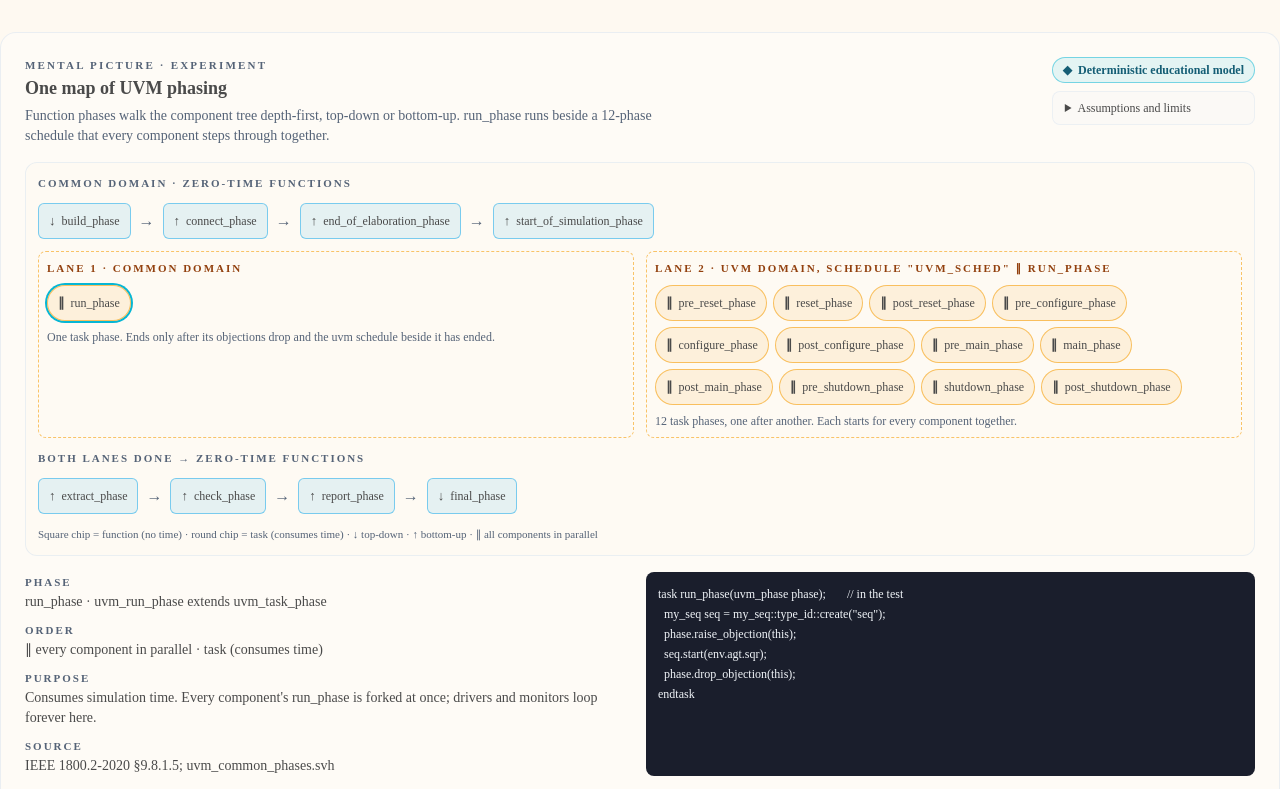
Scenario: UvmPhaseTimelineVisualizer › labels each common phase with its traversal direction (final is top-down, report bottom-up)
Expected: the button with aria-label "build_phase: function, top-down" is shown, 38,203 -> 130,239
Expected: the button with aria-label "connect_phase: function, bottom-up" is shown, 162,203 -> 268,239
Click the button with aria-label "final_phase:": (472,496) 427,478 -> 517,514
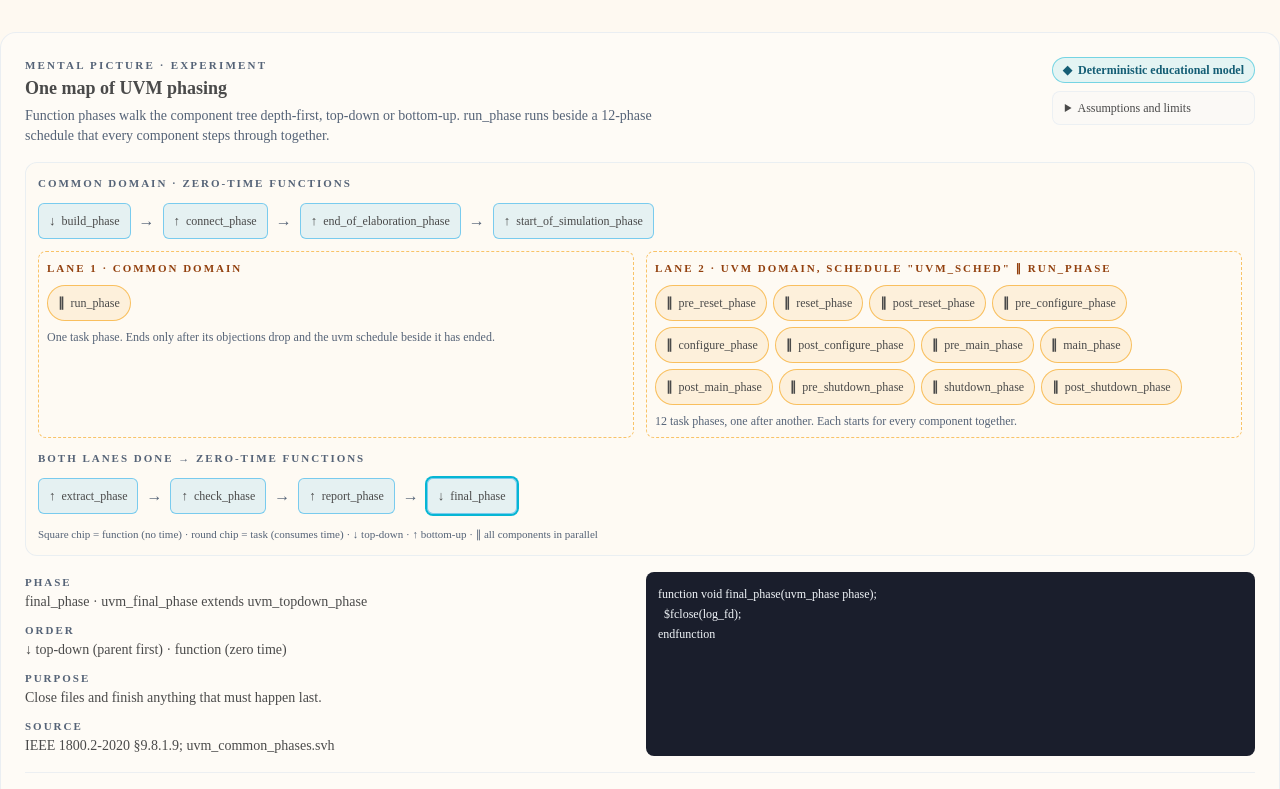
Expected: the text "final_phase · uvm_final_phase extends uvm_topdown_phase" is shown, 25,594 -> 367,608
